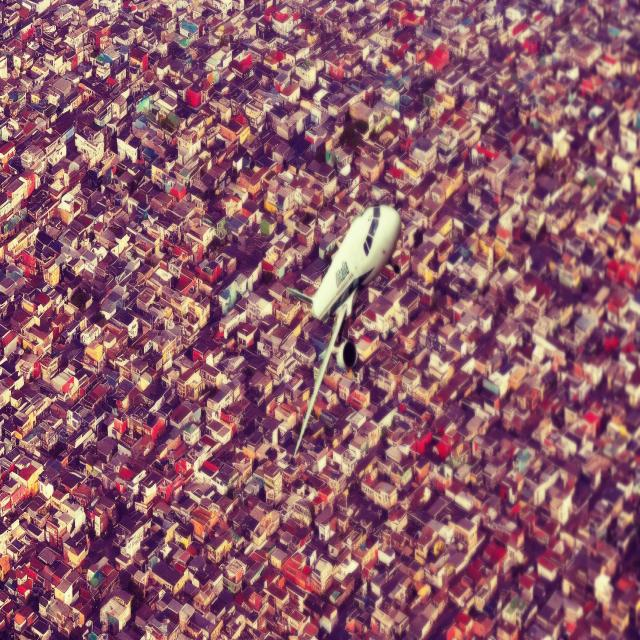airplane: (284, 202, 402, 458)
